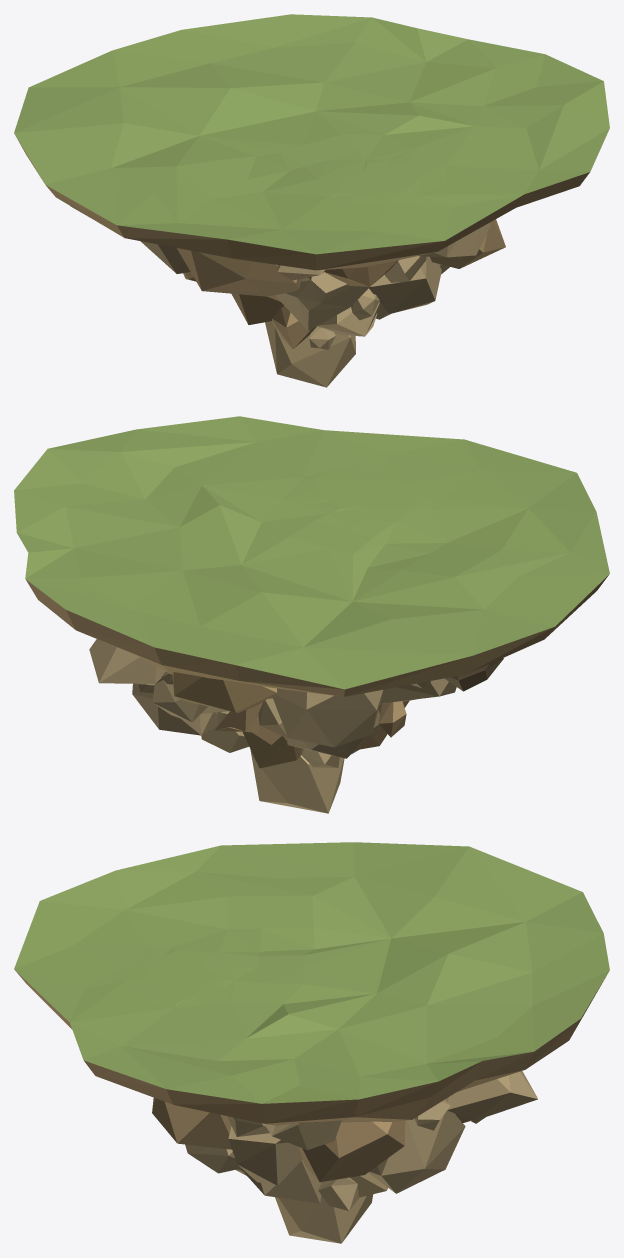
Rendered from island.FBX.
3 renders of one model, top to bottom at view 1: azimuth 30°, elevation 25°; view 2: azimuth 150°, elevation 25°; view 3: azimuth 270°, elevation 25°, orthographic. The views are drawn at different scales.
Visible parts, largest first — view 1: Plane019; view 2: Plane019; view 3: Plane019.
Boxes of the visible parts, x1,y1,x2,y2 form: Plane019: (14,14,609,387); Plane019: (14,416,609,813); Plane019: (14,842,609,1243).
Bounding box in the file's own units: 160 × 74.39 × 148.
1 material, 1 textured.
